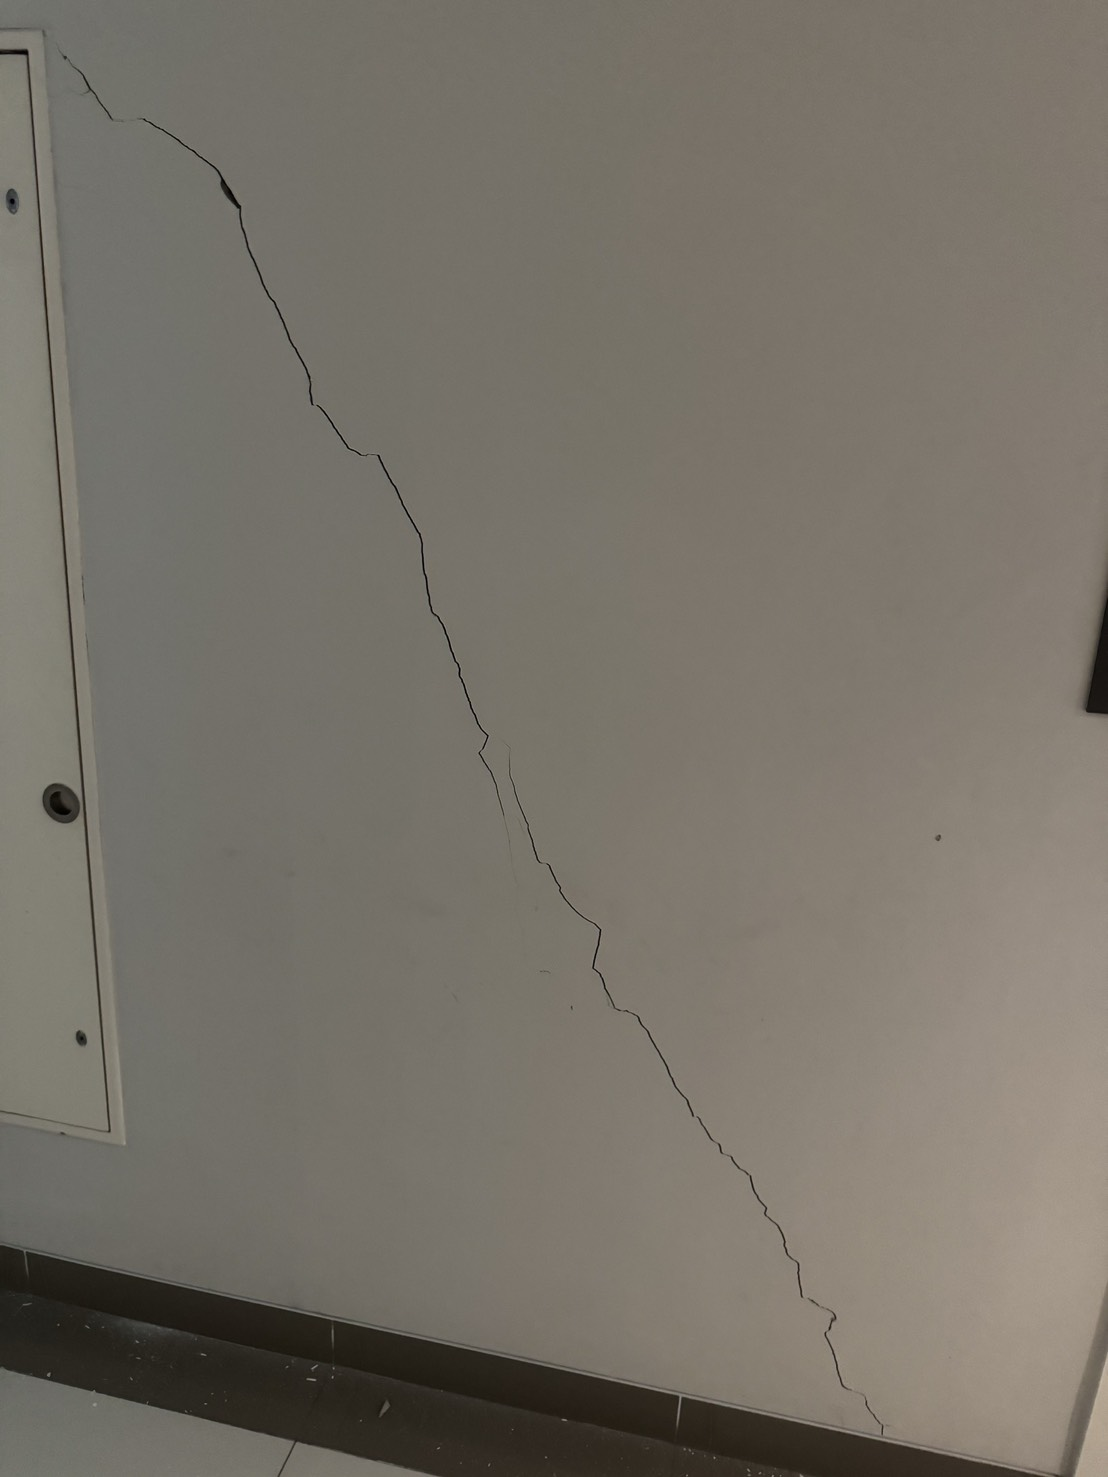Low: (35, 35, 928, 1443)
